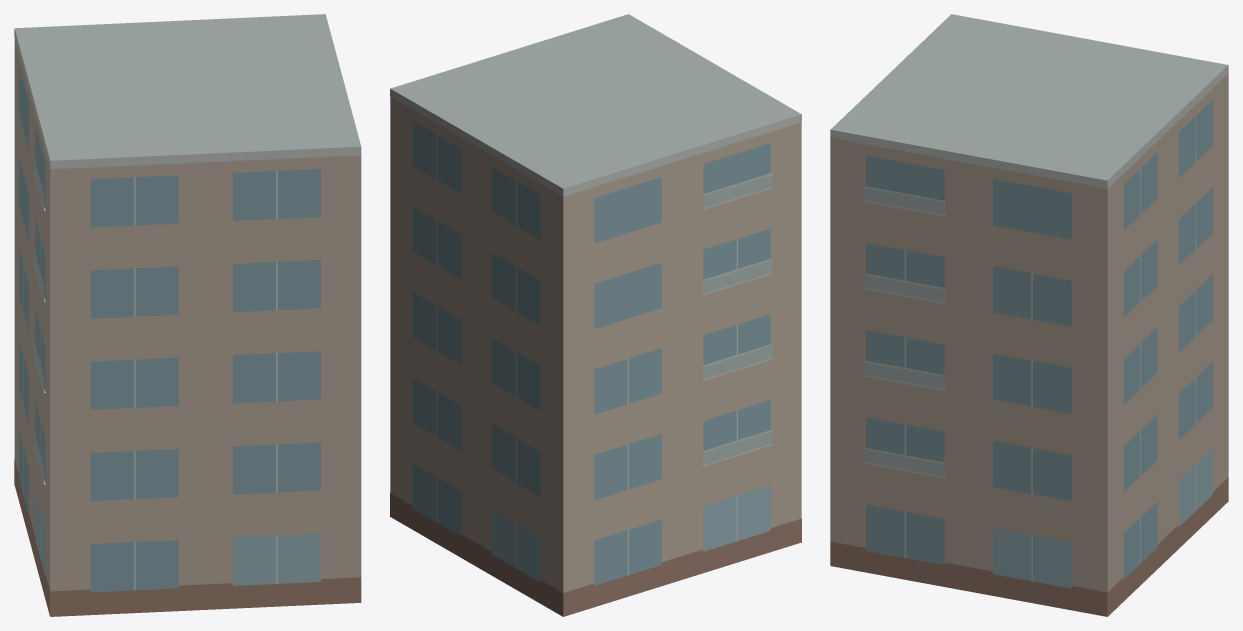
File: survey-upis-32530112.glb
3 views of the same model, side by side, from view 1: azimuth 30°, elevation 25°; view 2: azimuth 150°, elevation 25°; view 3: azimuth 270°, elevation 25° (orthographic). The views are drawn at different scales.
Parts seen in each view (by area): view 1: survey-upis-32530112.tmp; view 2: survey-upis-32530112.tmp; view 3: survey-upis-32530112.tmp.
Part boxes in pixels (box(x1,y1,x2,y2)): survey-upis-32530112.tmp: box(14, 14, 361, 616); survey-upis-32530112.tmp: box(390, 14, 801, 616); survey-upis-32530112.tmp: box(830, 14, 1228, 616).
Bounding box in the file's own units: 10.74 × 13.1 × 10.85.
